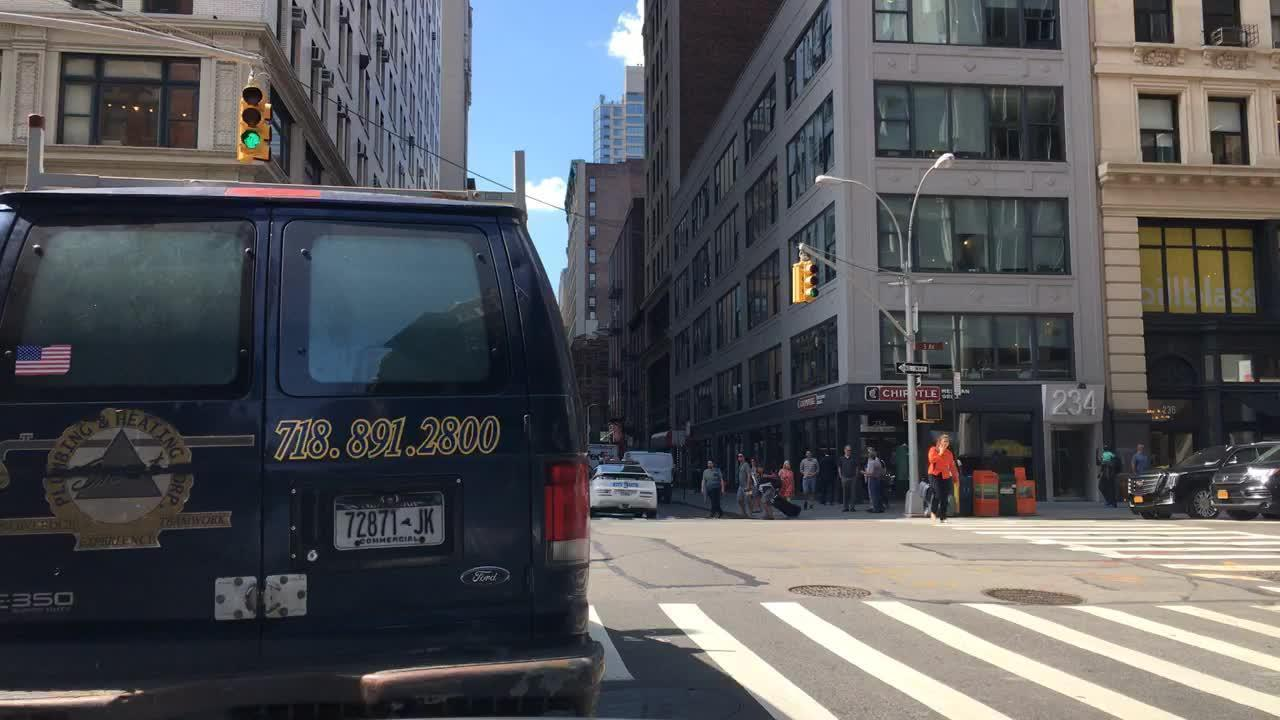ford: (455, 559, 517, 591)
